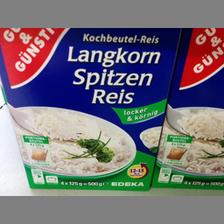Reis: (0, 27, 182, 191), (149, 27, 223, 189)
